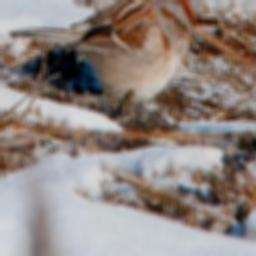Sparrow: (10, 0, 201, 129)
